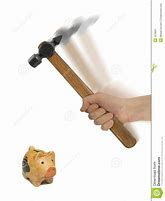hammer: (27, 33, 138, 150), (50, 22, 142, 150), (65, 14, 147, 153)
